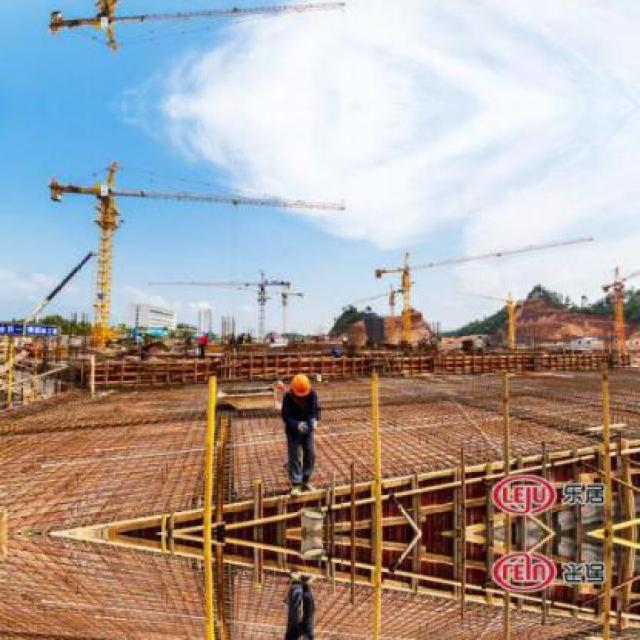helmet: (290, 368, 313, 398)
